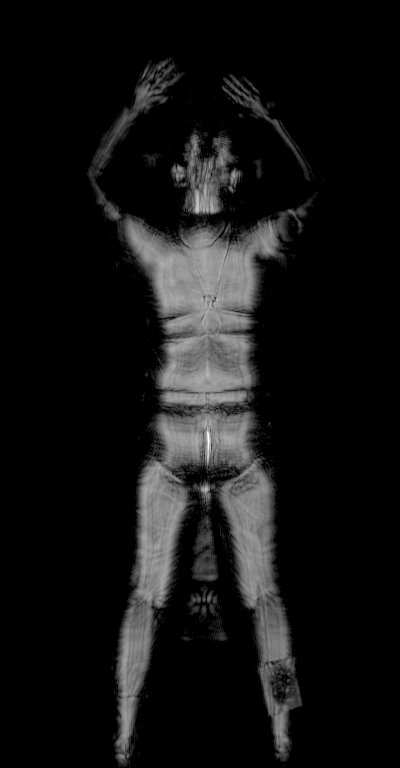head: (166, 126, 244, 200)
others: (255, 654, 305, 721), (266, 207, 306, 246)
person: (87, 58, 318, 768)
